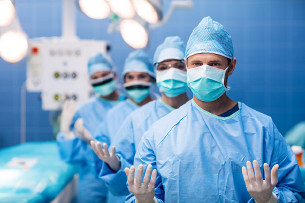face_mask: (186, 53, 226, 101), (155, 61, 186, 97), (124, 69, 151, 101), (90, 70, 113, 97)
